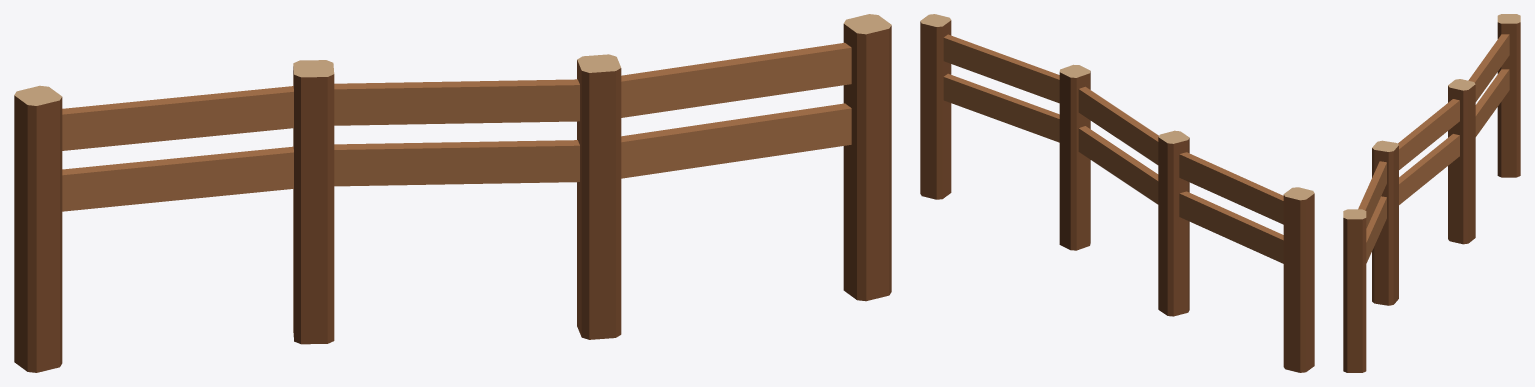
File: Prop_Decorative_Fence_Esse_2x3.obj
3 views of the same model, side by side, from view 1: azimuth 30°, elevation 25°; view 2: azimuth 150°, elevation 25°; view 3: azimuth 270°, elevation 25° (orthographic). The views are drawn at different scales.
Parts seen in each view (by area): view 1: Fence_Rail, Fence_Post_Side, Fence_Post_Top; view 2: Fence_Post_Side, Fence_Rail, Fence_Post_Top; view 3: Fence_Post_Side, Fence_Rail, Fence_Post_Top.
Part boxes in pixels (left/top/right/bottom): Fence_Rail: left=62, top=42, right=851, bottom=211; Fence_Post_Side: left=14, top=24, right=891, bottom=372; Fence_Post_Top: left=14, top=14, right=891, bottom=105; Fence_Post_Side: left=920, top=20, right=1314, bottom=372; Fence_Rail: left=943, top=34, right=1283, bottom=263; Fence_Post_Top: left=920, top=14, right=1314, bottom=200; Fence_Post_Side: left=1343, top=22, right=1520, bottom=372; Fence_Rail: left=1358, top=34, right=1509, bottom=263; Fence_Post_Top: left=1343, top=14, right=1520, bottom=219.
Bounding box in the file's own units: 3.15 × 1.1 × 1.15.
